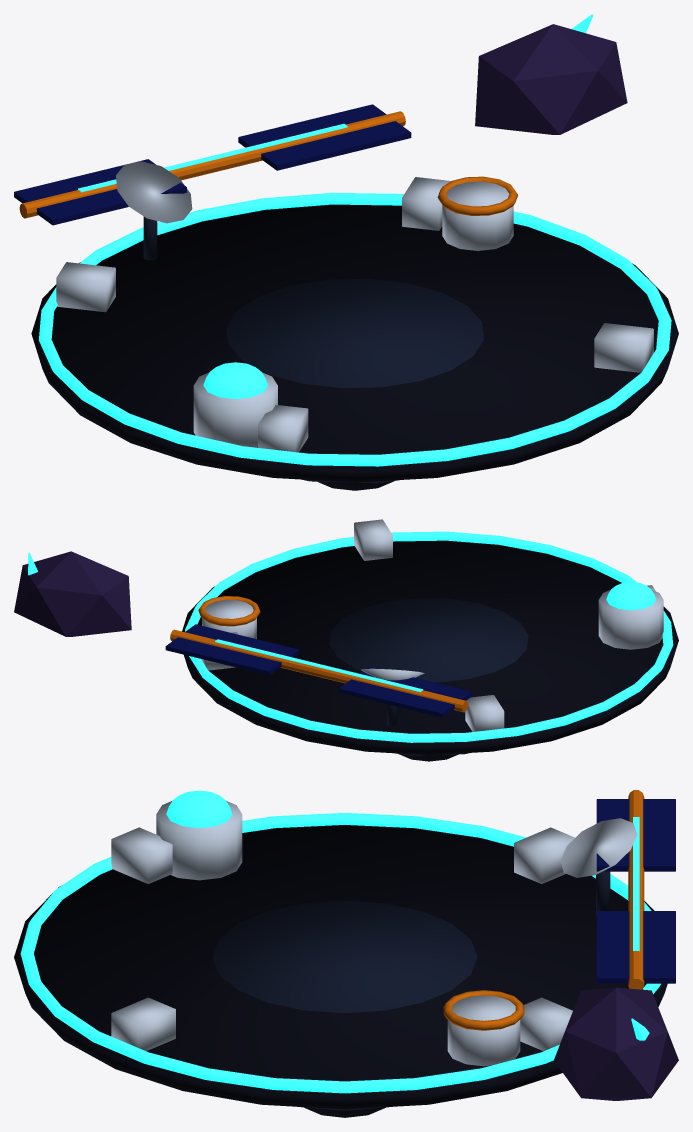
Rendered from orbital_station.glb.
The picture shows the model from 3 angles, top to bottom: view 1: azimuth 30°, elevation 25°; view 2: azimuth 150°, elevation 25°; view 3: azimuth 270°, elevation 25°; orthographic projection. The views are drawn at different scales.
Visible parts, largest first — view 1: OrbitalStationCore, Asteroid2010PK, SolarWingSpin; view 2: OrbitalStationCore, SolarWingSpin, Asteroid2010PK; view 3: OrbitalStationCore, SolarWingSpin, Asteroid2010PK.
Boxes of the visible parts, x1=… form: OrbitalStationCore: x1=31, y1=161, x2=678, y2=490; Asteroid2010PK: x1=475, y1=14, x2=627, y2=134; SolarWingSpin: x1=14, y1=104, x2=411, y2=225; OrbitalStationCore: x1=182, y1=519, x2=678, y2=761; SolarWingSpin: x1=165, y1=624, x2=472, y2=717; Asteroid2010PK: x1=14, y1=551, x2=131, y2=636; OrbitalStationCore: x1=14, y1=790, x2=667, y2=1117; SolarWingSpin: x1=596, y1=790, x2=675, y2=989; Asteroid2010PK: x1=554, y1=987, x2=678, y2=1100.
Size of the model in its own units: 2.4 by 0.9192 by 2.01.
